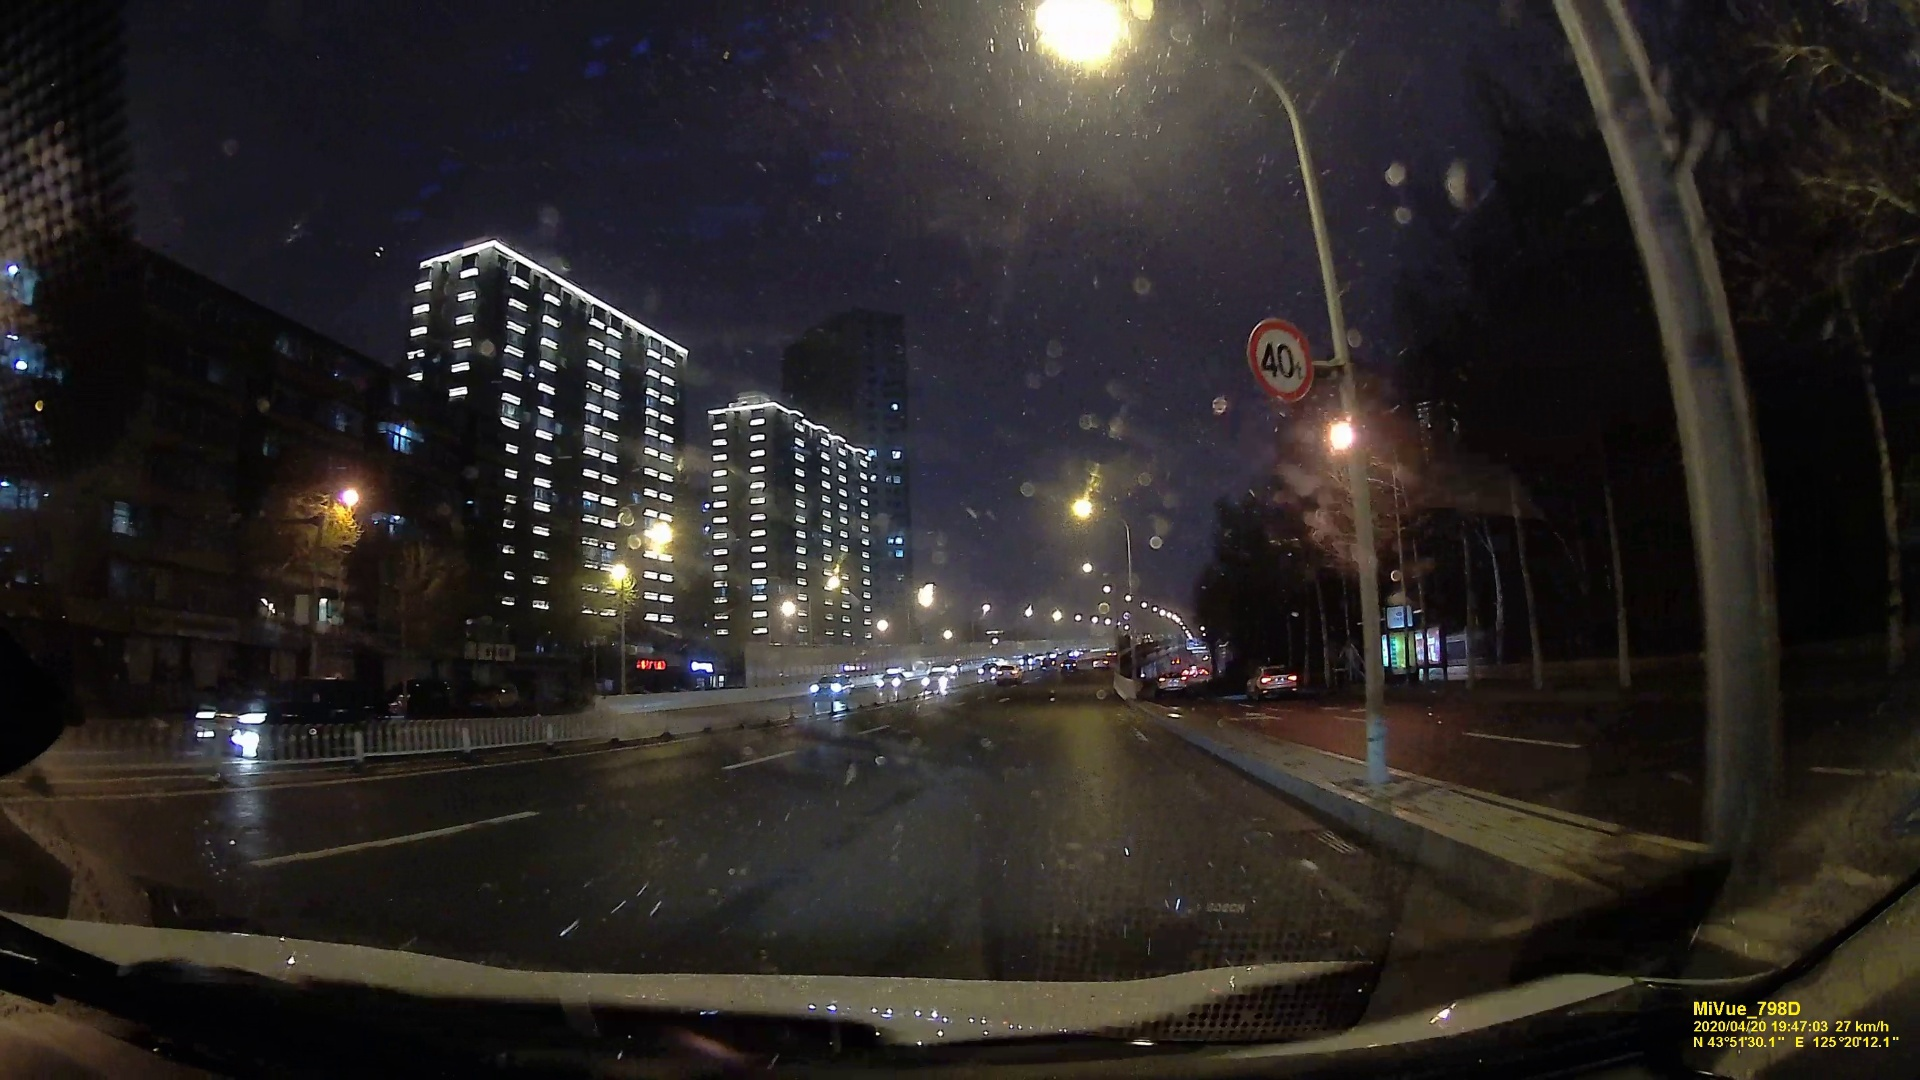traffic_sign: (1244, 315, 1315, 402)
vehicle: (193, 676, 386, 758), (1246, 665, 1300, 702), (807, 674, 855, 705), (1155, 670, 1188, 695), (922, 673, 952, 691), (877, 671, 905, 690), (996, 665, 1021, 684)
